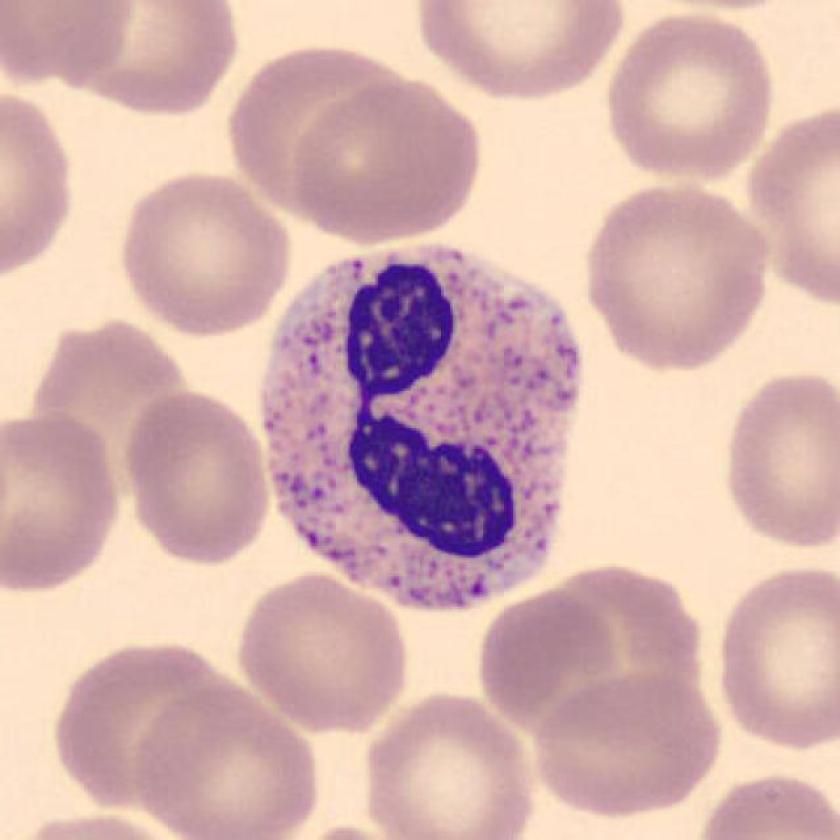neutrophil: (262, 240, 584, 610)
